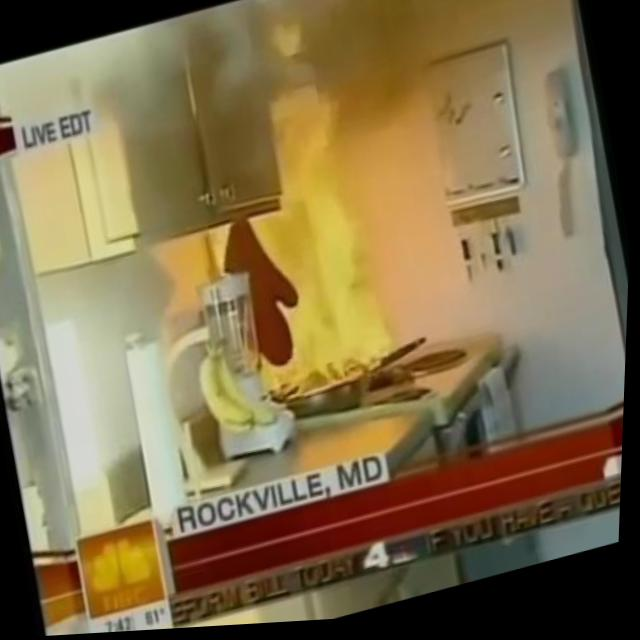fire: (243, 182, 408, 408)
